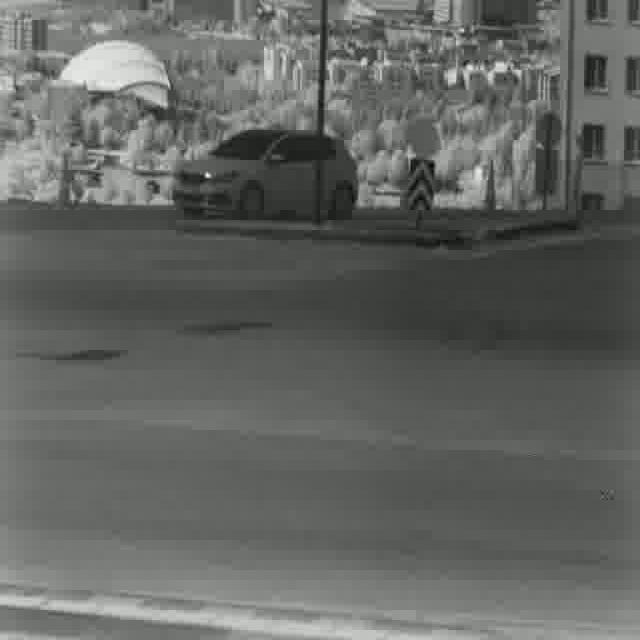Car: (175, 130, 357, 220)
